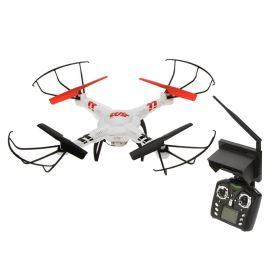drone: (7, 57, 225, 179)
